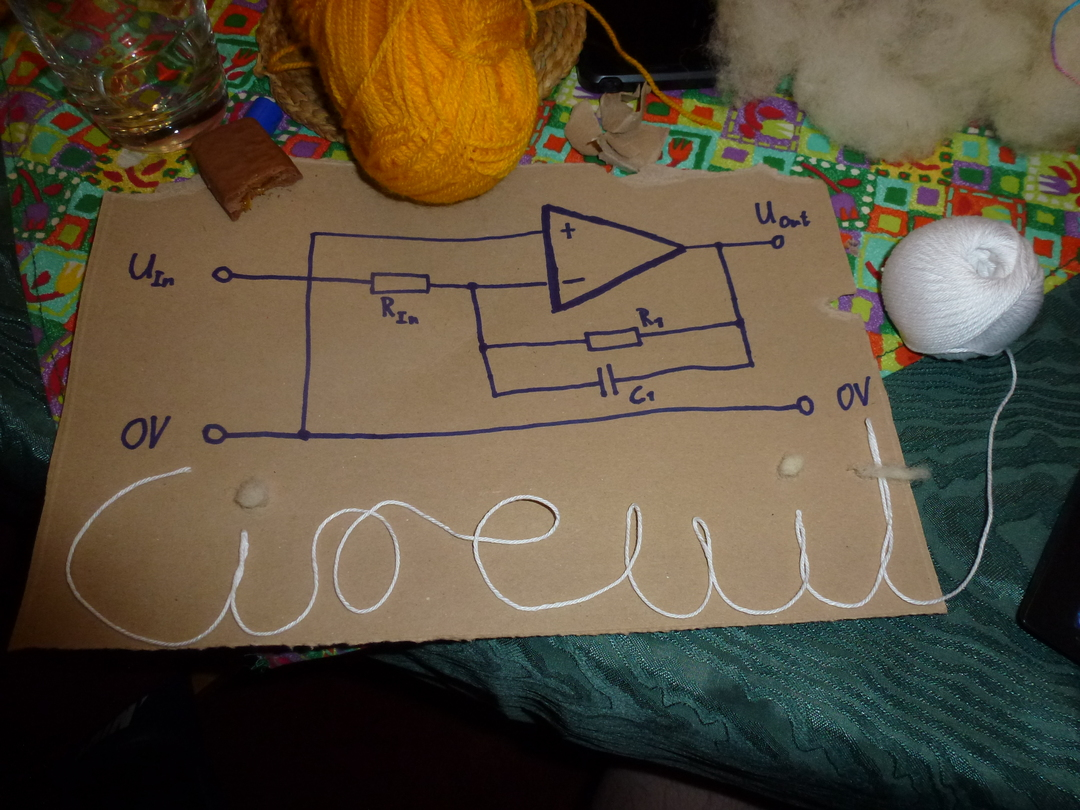capacitor.unpolarized: (594, 362, 623, 399)
crossover: (303, 272, 317, 284)
junction: (295, 426, 312, 444), (732, 315, 748, 331), (711, 238, 727, 253), (464, 279, 480, 293), (477, 342, 491, 355), (746, 359, 757, 371), (489, 390, 500, 400), (307, 230, 319, 239)
operational_amplifier: (539, 202, 689, 314)
resistor: (367, 268, 433, 297), (582, 325, 645, 354)
terminal: (200, 422, 230, 446), (794, 394, 816, 418), (210, 264, 235, 285), (769, 234, 786, 250)
text: (119, 413, 172, 452), (127, 252, 176, 289), (753, 199, 811, 229), (835, 375, 873, 412), (379, 295, 421, 327), (635, 306, 665, 329), (627, 384, 656, 406)
